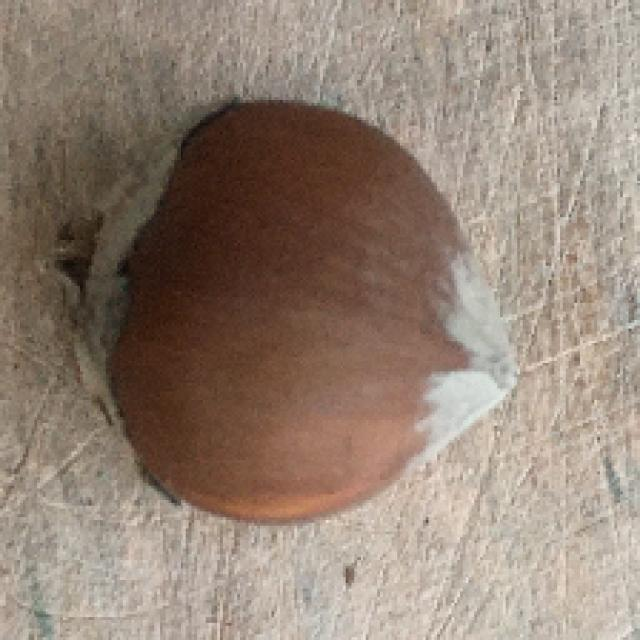damagedHazelnut: (38, 86, 520, 533)
